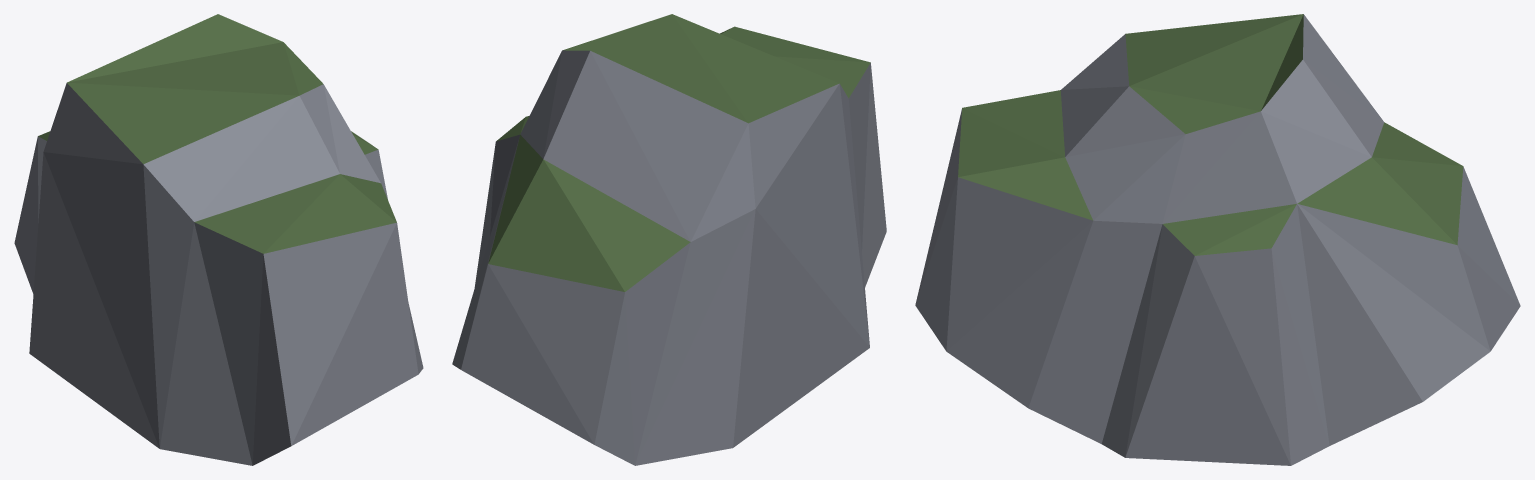
The model's file is Rock_Moss_4.lod1.glb.
3 views of the same model, side by side, from view 1: azimuth 30°, elevation 25°; view 2: azimuth 150°, elevation 25°; view 3: azimuth 270°, elevation 25° (orthographic). The views are drawn at different scales.
Parts seen in each view (by area): view 1: Rock_Moss_4; view 2: Rock_Moss_4; view 3: Rock_Moss_4.
Boxes of the visible parts, x1,y1,x2,y2 form: Rock_Moss_4: (14,14,423,465); Rock_Moss_4: (452,14,886,465); Rock_Moss_4: (915,14,1520,465).
Size of the model in its own units: 0.7424 by 0.7835 by 1.23.
